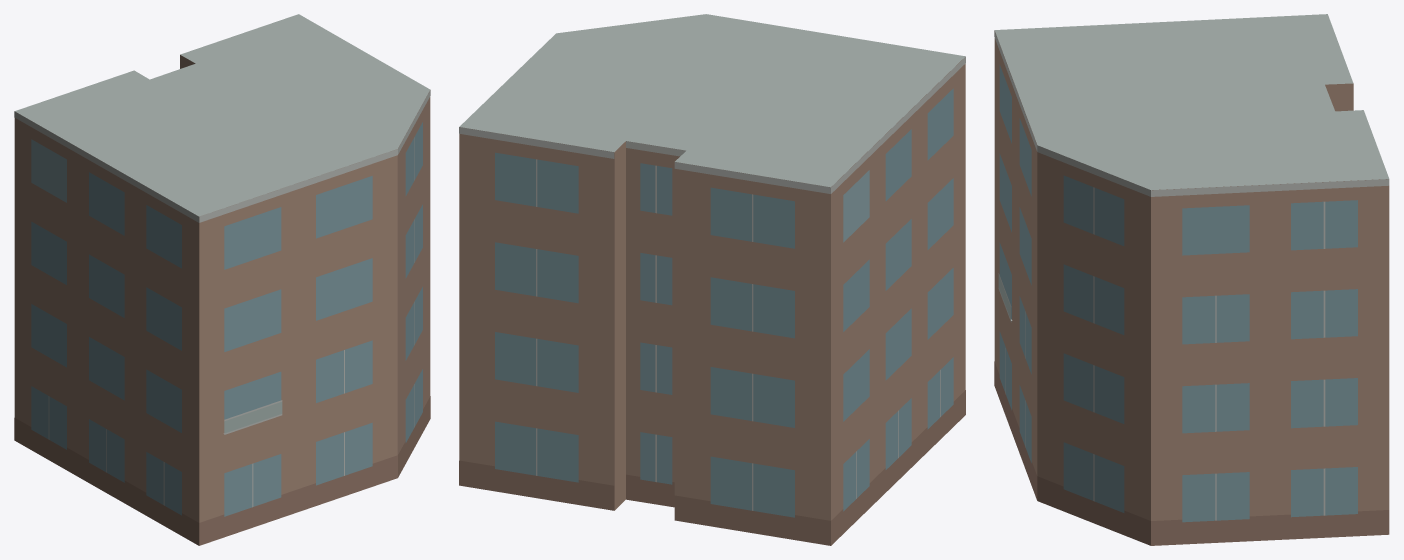
Rendered from survey-upis-33040393.glb.
3 renders of one model, left to right at view 1: azimuth 30°, elevation 25°; view 2: azimuth 150°, elevation 25°; view 3: azimuth 270°, elevation 25°, orthographic. The views are drawn at different scales.
Parts seen in each view (by area): view 1: survey-upis-33040393.tmp; view 2: survey-upis-33040393.tmp; view 3: survey-upis-33040393.tmp.
Boxes of the visible parts, x1,y1,x2,y2 form: survey-upis-33040393.tmp: [14, 14, 430, 545]; survey-upis-33040393.tmp: [459, 14, 965, 545]; survey-upis-33040393.tmp: [994, 14, 1389, 545].
Size of the model in its own units: 13.52 by 12.73 by 12.81.
